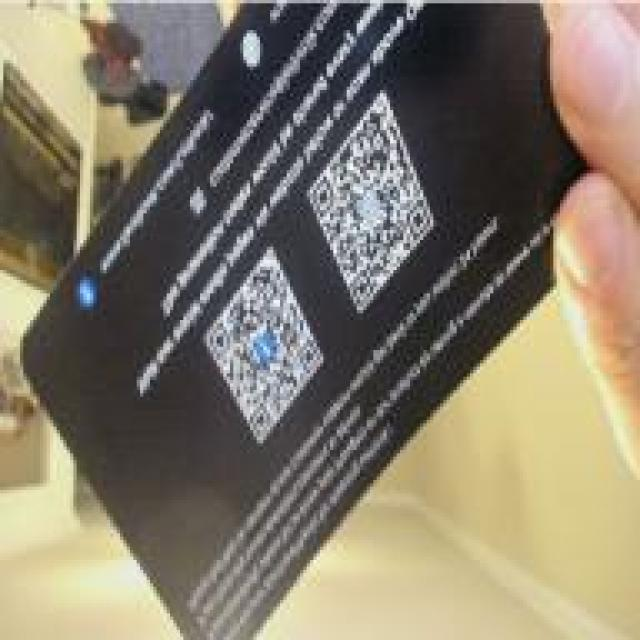qr_code: (312, 96, 432, 307), (210, 266, 319, 435)
